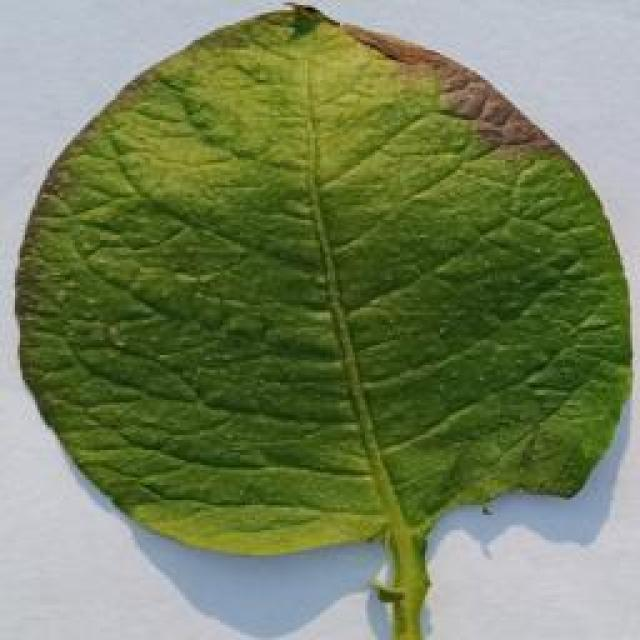Potato_Late_Blight: (16, 5, 624, 628)
